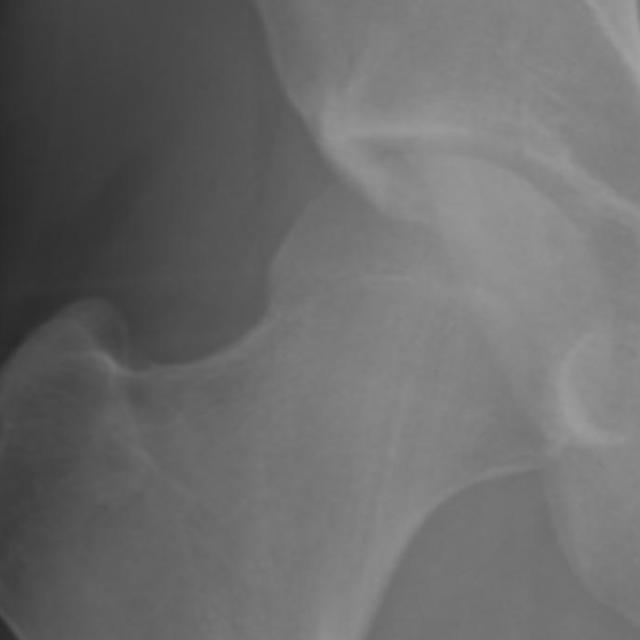Fitted_femural_head: (355, 154, 432, 355)
